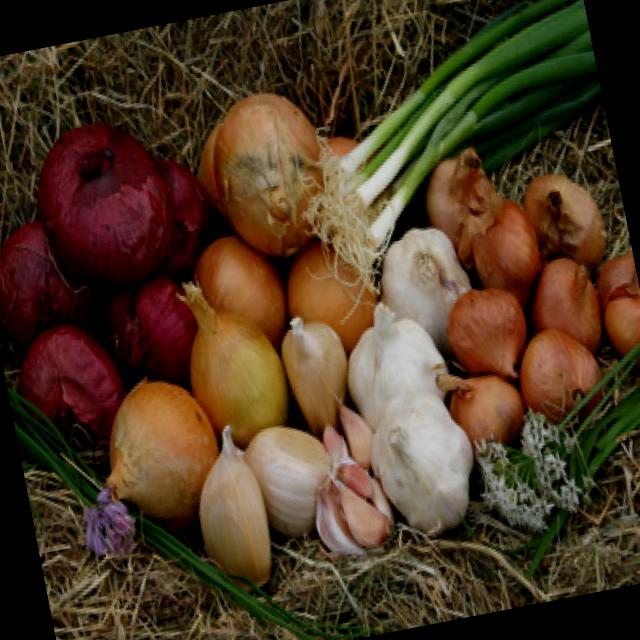onion: (21, 102, 188, 298), (200, 80, 353, 272), (80, 358, 234, 526), (171, 268, 304, 456), (7, 316, 129, 448)
